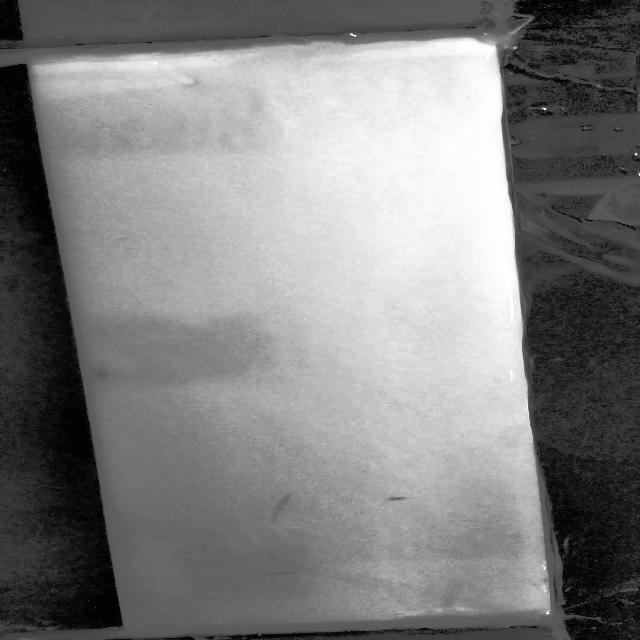shrimp: (273, 495, 307, 533), (378, 494, 427, 511), (261, 567, 303, 581), (90, 364, 122, 382)
